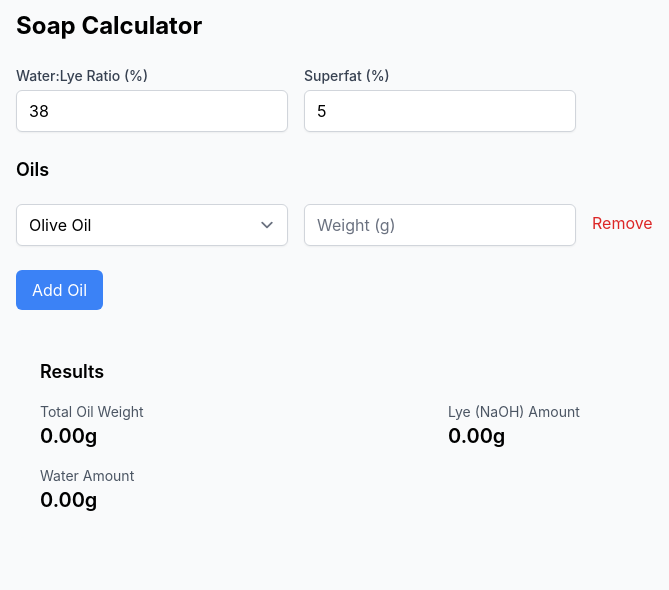
Test: Calculator Component › can add oils
Click the button "Add Oil".
click(60, 290)  # box [16,270,103,310]
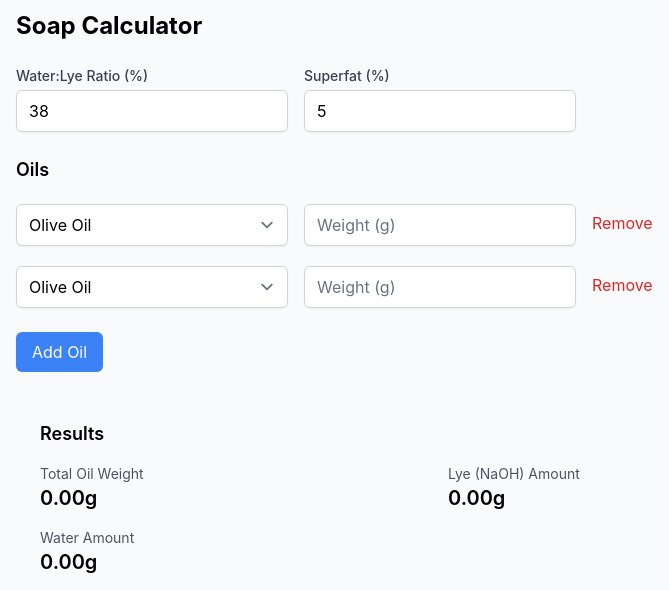
expect the number of number fields with placeholder "Weight (g)" is 2: met, box [304,204,576,246]; [304,266,576,308]
